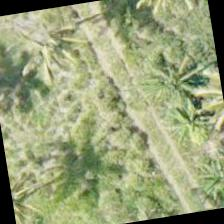Kelapa_Sawit: (0, 3, 98, 93)
